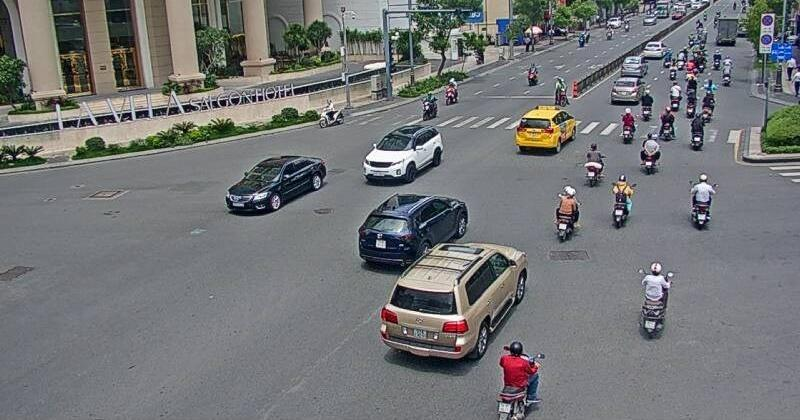xe hoi: (371, 239, 535, 369), (356, 191, 469, 273), (227, 155, 325, 213), (363, 122, 446, 181), (515, 102, 579, 156)
xe may: (495, 339, 542, 420), (638, 259, 672, 341), (552, 185, 578, 242), (608, 176, 633, 229), (691, 171, 712, 230), (584, 140, 604, 186), (639, 133, 661, 174), (620, 106, 636, 143)
